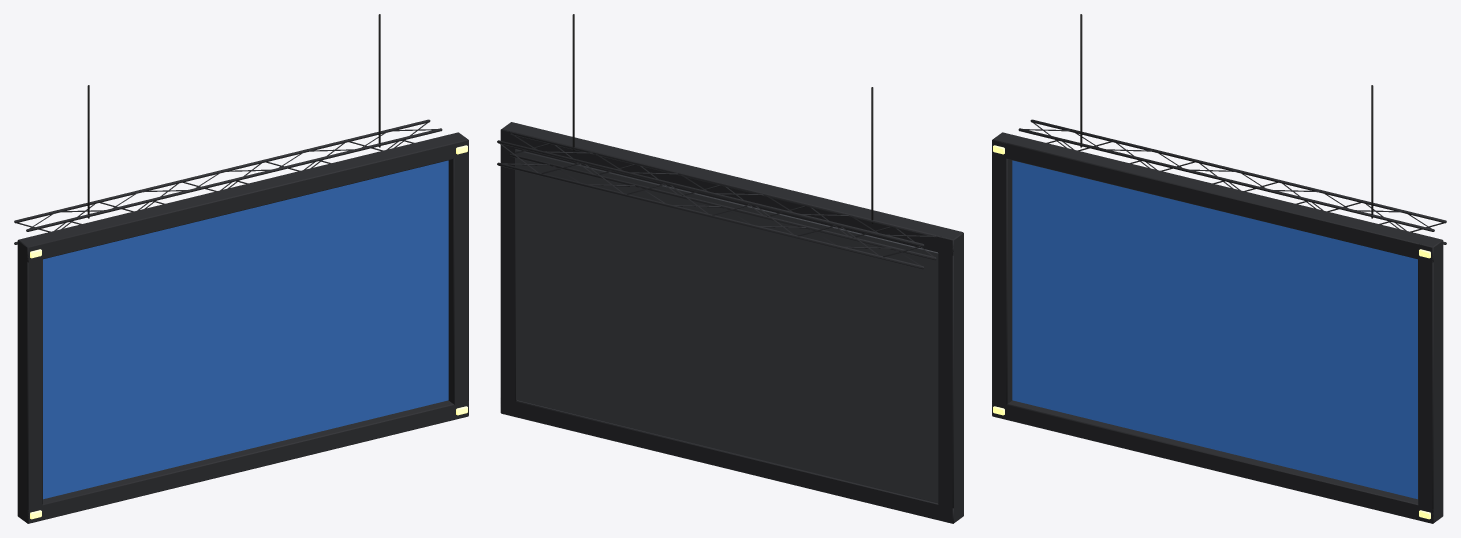
Rendered from Big_Screen.glb.
3 renders of one model, left to right at view 1: azimuth 30°, elevation 25°; view 2: azimuth 150°, elevation 25°; view 3: azimuth 330°, elevation 25°, orthographic. The views are drawn at different scales.
Visible parts, largest first — view 1: Big_Screen; view 2: Big_Screen; view 3: Big_Screen.
Boxes of the visible parts, x1,y1,x2,y2 form: Big_Screen: (14,14,468,523); Big_Screen: (497,14,963,523); Big_Screen: (992,14,1446,523).
Size of the model in its own units: 8.5 by 7.55 by 0.9401.
